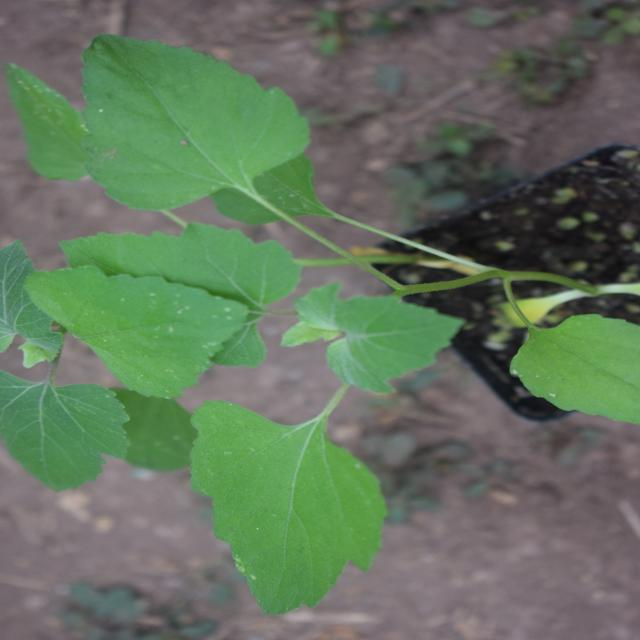cocklebur: (51, 0, 586, 487)
